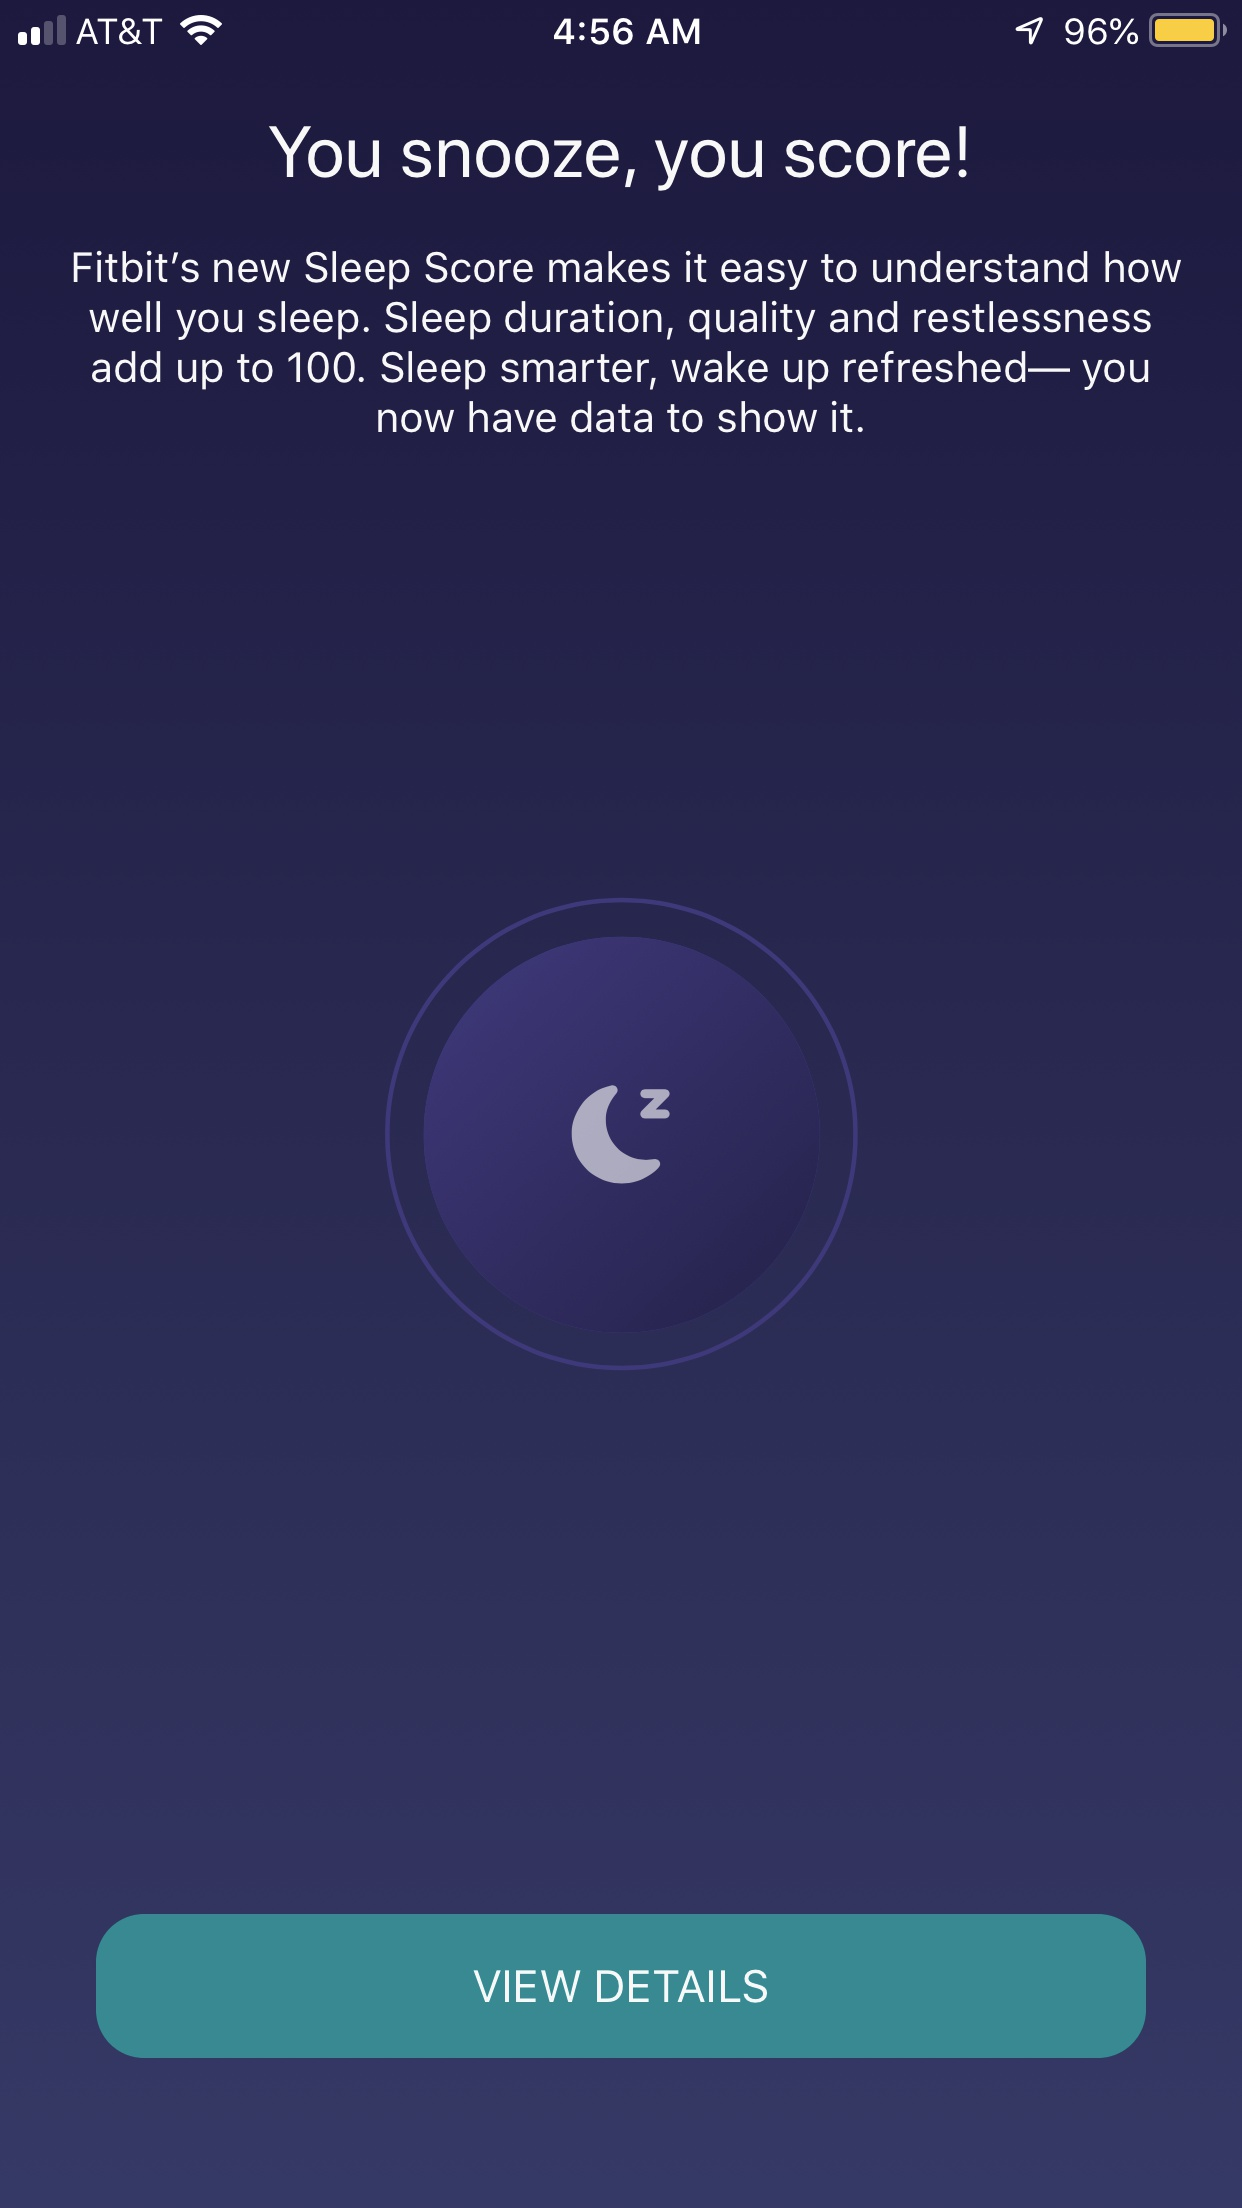Image: (384, 896, 860, 1372)
Text: (73, 252, 1181, 435), (268, 126, 968, 194)
TextButton: (96, 1912, 1146, 2059)
UpperTaskBar: (2, 2, 1242, 49)
